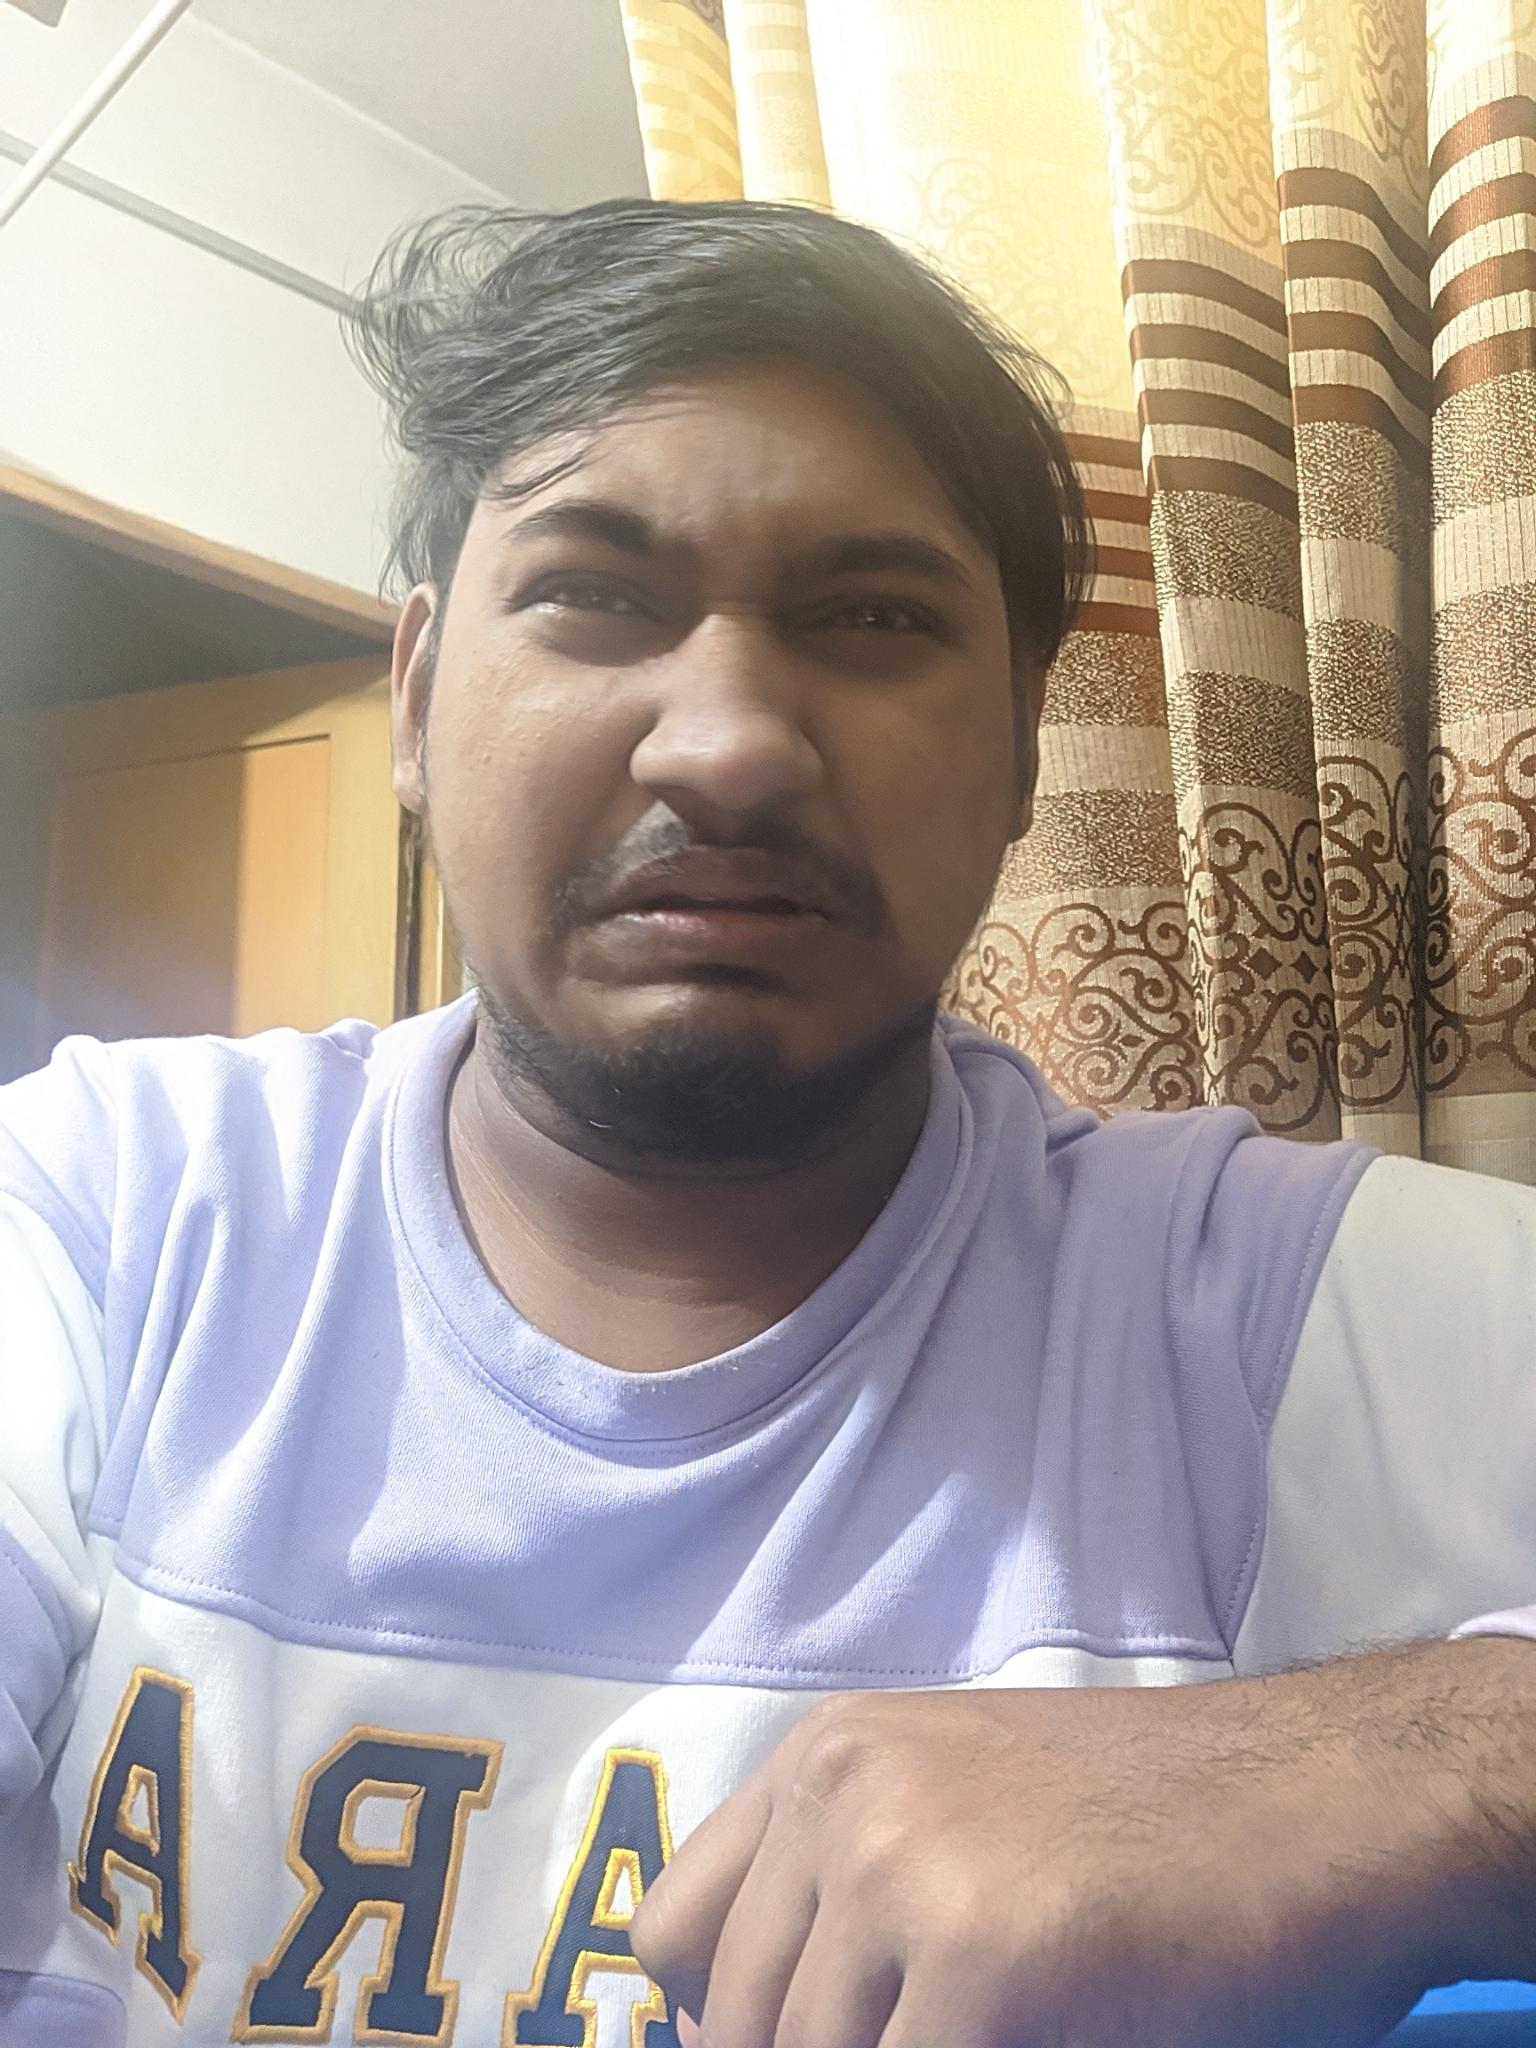Disgust: (402, 402, 1023, 1190)
